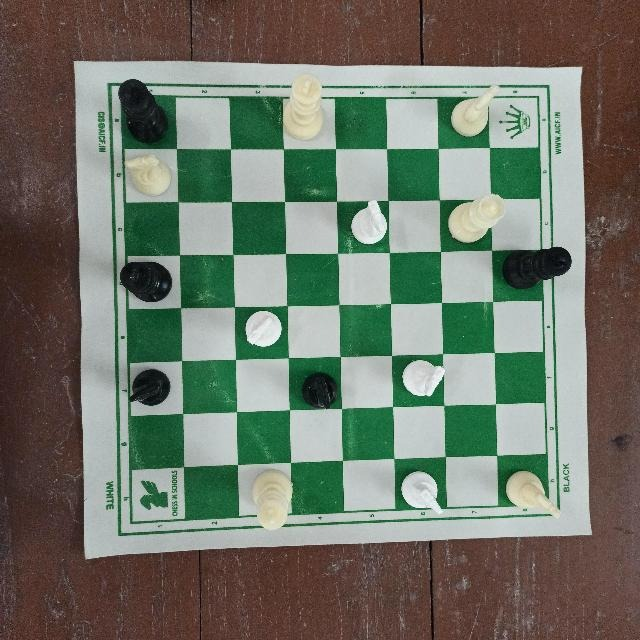black-king: (116, 74, 172, 145), (500, 238, 572, 288), (115, 255, 182, 307)
black-knight: (125, 369, 180, 415), (297, 361, 341, 410)
white-king: (284, 66, 327, 145), (244, 470, 296, 533)
white-knight: (504, 469, 570, 520), (451, 76, 503, 139), (117, 148, 171, 197), (399, 356, 450, 407), (401, 468, 449, 517), (238, 308, 285, 356), (348, 197, 388, 243)
white-queen: (448, 187, 506, 246)
